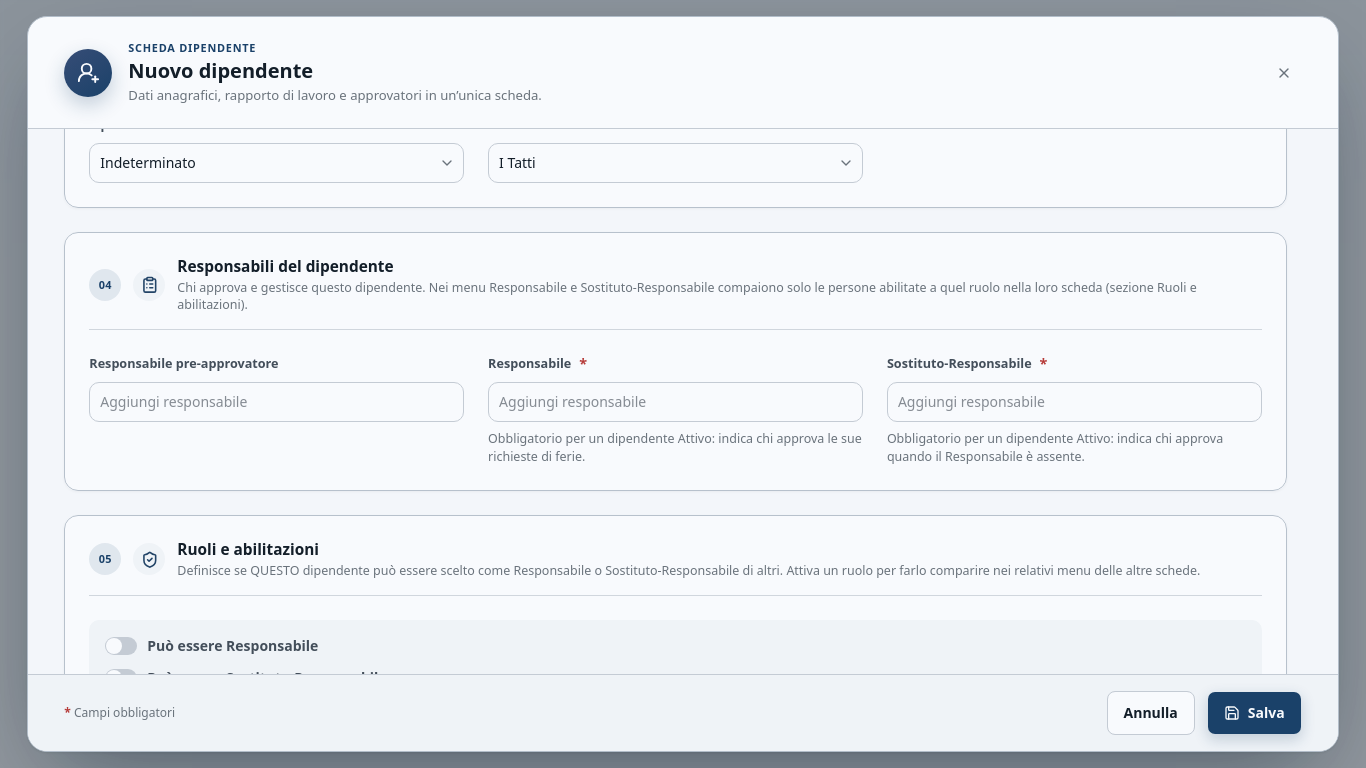
Test case: EmployeeForm modal › filters the searchable Sostituto-Responsabile picker to eligible employees
The width and height of the screenshot is (1366, 768).
(page scrolled)
Click the dropdown named "Sostituto-Responsabile": (1074, 402) top-left (898, 392), bottom-right (1251, 412)
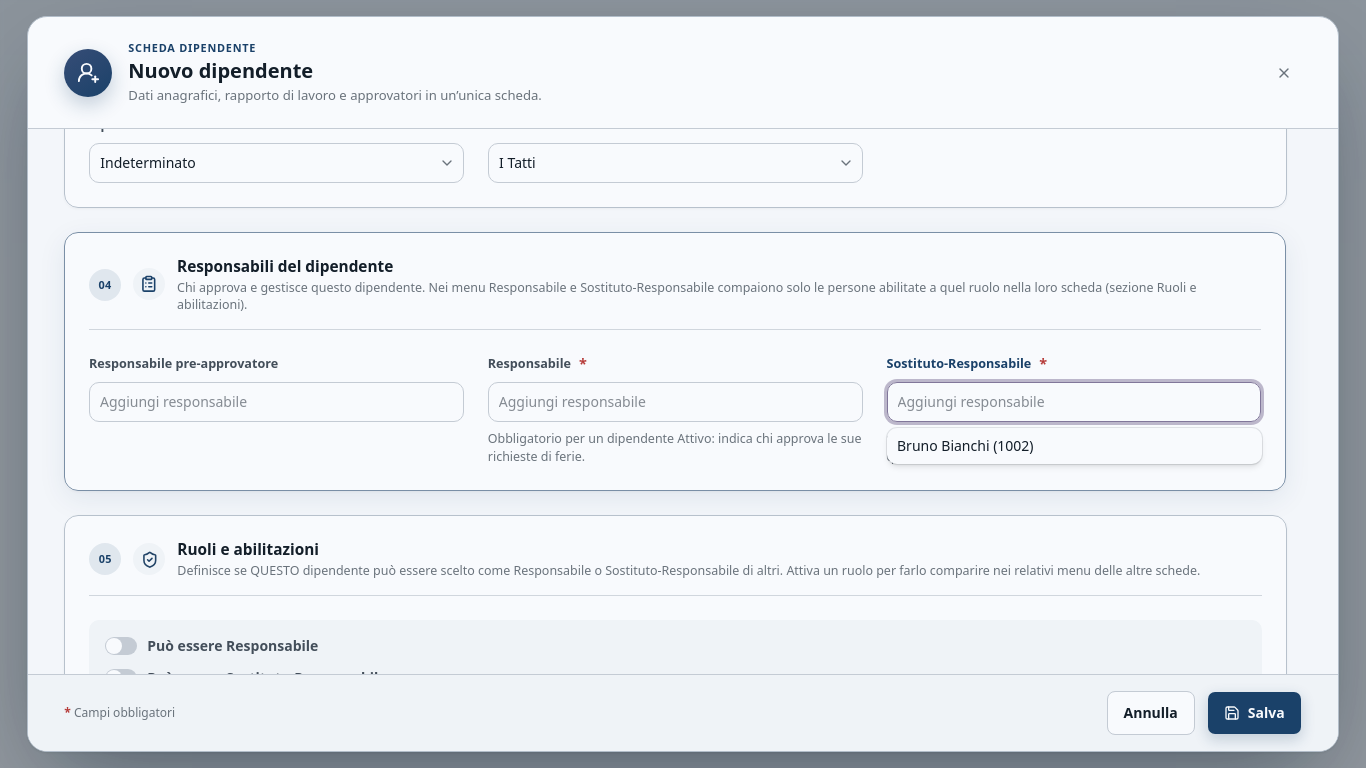
Expected: the option "Bruno Bianchi (1002)" is shown, top-left (897, 436), bottom-right (1034, 455)
